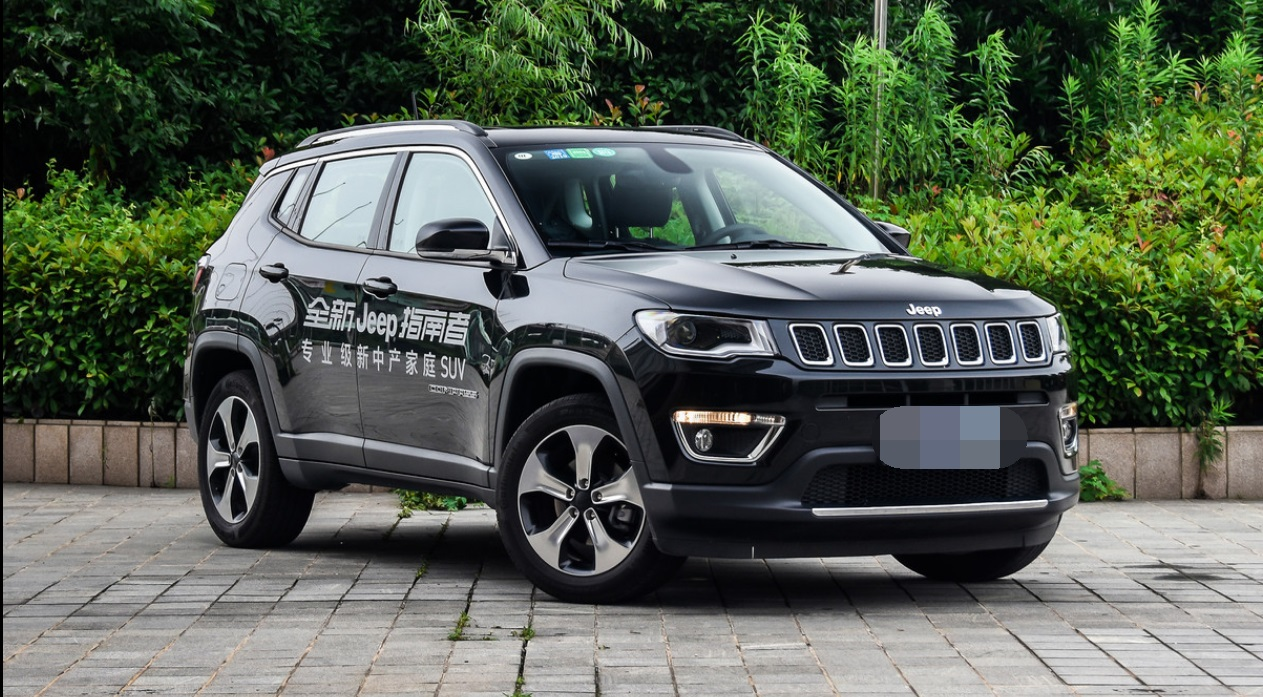SUV: (174, 112, 1084, 600)
